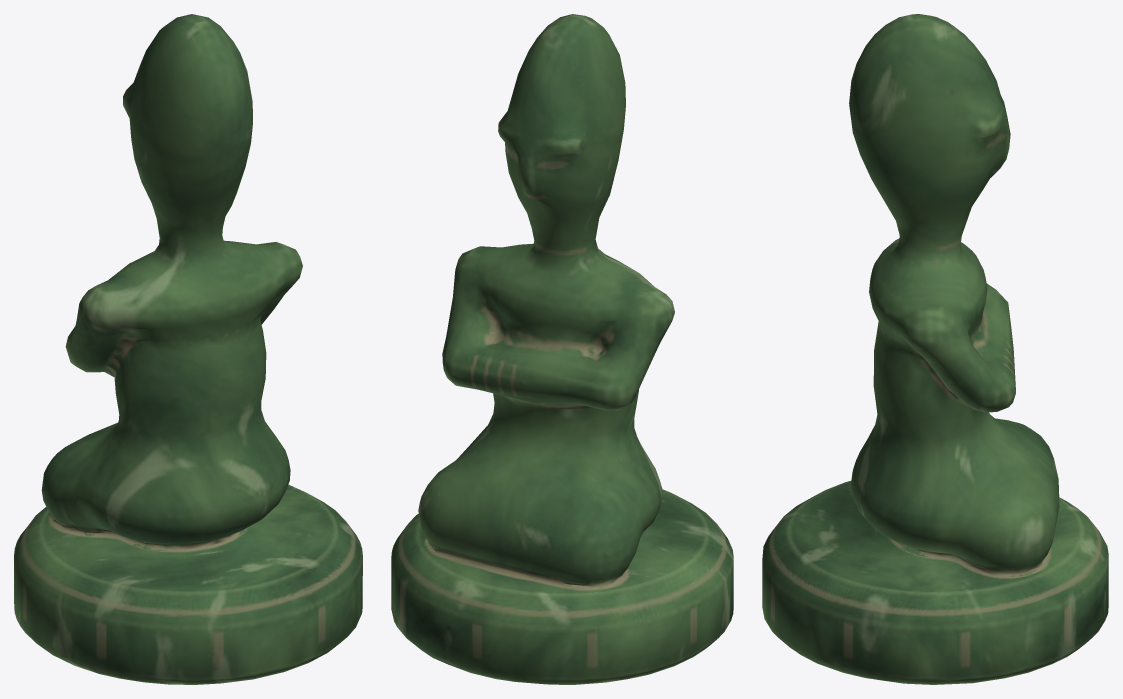
File: idol_jade.glb
3 renders of one model, left to right at view 1: azimuth 30°, elevation 25°; view 2: azimuth 150°, elevation 25°; view 3: azimuth 270°, elevation 25°, orthographic.
Parts seen in each view (by area): view 1: idol_jade; view 2: idol_jade; view 3: idol_jade.
Part boxes in pixels (<box>): idol_jade: <box>14,14,362,684</box>; idol_jade: <box>391,14,733,684</box>; idol_jade: <box>762,14,1108,684</box>.
Size of the model in its own units: 0.1573 by 0.2999 by 0.1573.
Materials: 1 (1 with a texture image).
